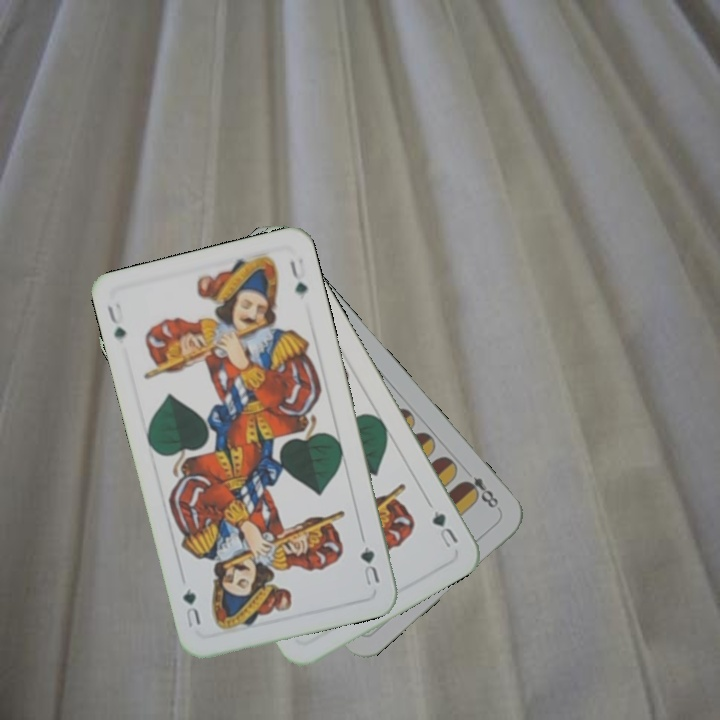E8: (458, 473, 503, 513)
GU: (424, 498, 461, 551), (356, 542, 383, 588), (103, 299, 129, 340)
